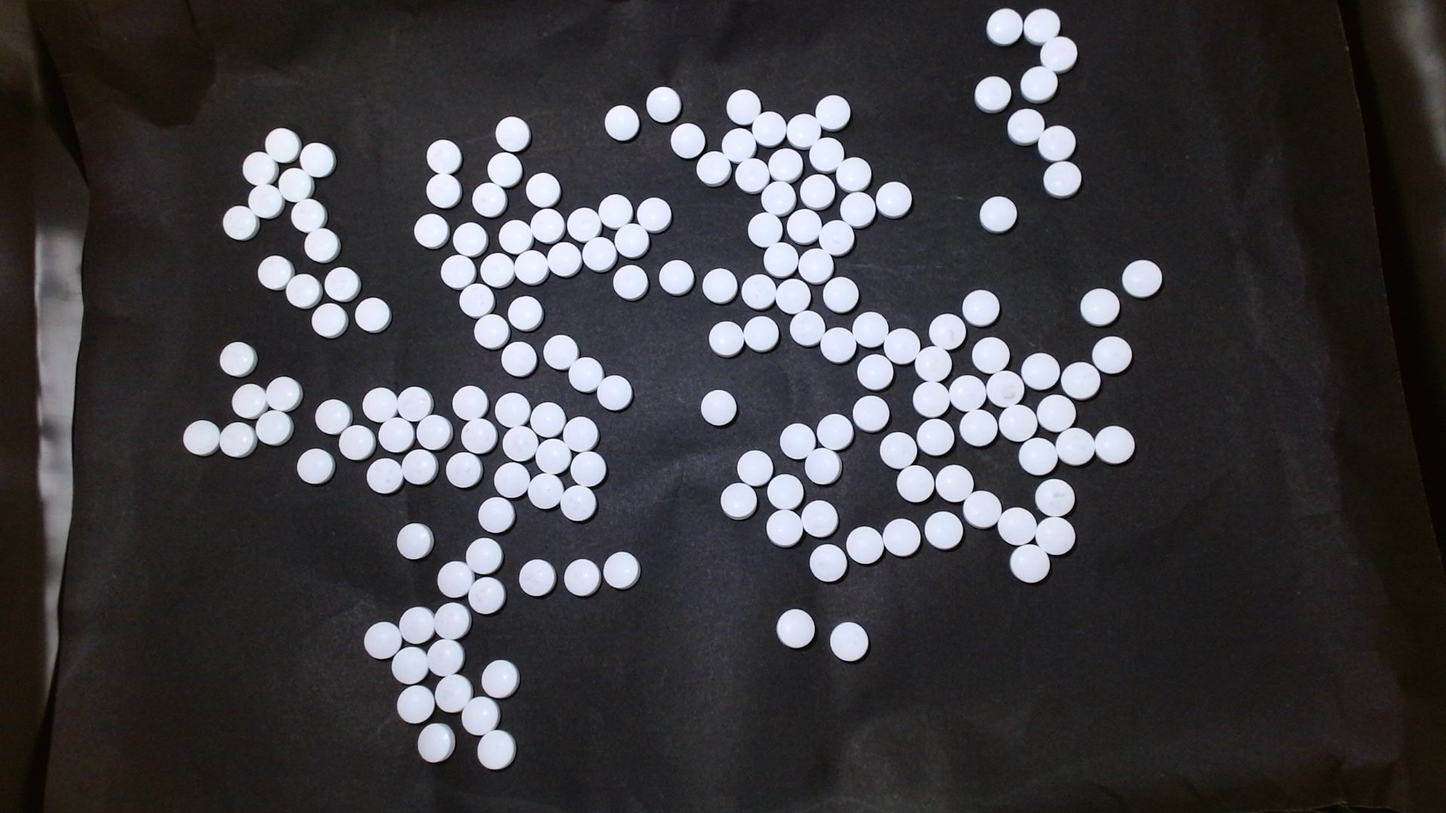Circle: (1034, 515, 1076, 556), (1091, 335, 1133, 375), (1121, 258, 1163, 298), (828, 620, 868, 662), (476, 729, 516, 771), (1093, 425, 1136, 464), (1018, 437, 1059, 477), (776, 607, 815, 649), (416, 722, 455, 764), (1055, 427, 1095, 467), (1035, 479, 1075, 519), (1010, 544, 1050, 584), (1078, 287, 1119, 326), (924, 510, 963, 550), (1060, 361, 1100, 400), (962, 489, 1001, 529), (1037, 393, 1076, 433), (1020, 352, 1060, 391), (295, 447, 335, 486), (396, 684, 435, 724), (434, 673, 472, 714), (460, 696, 499, 735), (391, 645, 429, 685), (915, 418, 953, 458), (996, 507, 1036, 545), (1038, 123, 1077, 161), (1042, 160, 1081, 198), (766, 509, 804, 548), (432, 601, 470, 640), (961, 288, 999, 327), (363, 620, 401, 659), (959, 408, 997, 447), (935, 464, 973, 503), (999, 403, 1037, 442), (480, 658, 518, 697), (810, 543, 847, 583), (720, 482, 758, 520), (856, 353, 894, 391), (395, 522, 433, 560), (427, 638, 465, 676), (313, 397, 352, 434), (477, 495, 514, 534), (880, 431, 917, 470), (971, 336, 1010, 373), (182, 419, 221, 456), (897, 464, 934, 503), (602, 551, 639, 590), (853, 394, 889, 434), (1006, 106, 1043, 144), (413, 212, 450, 250), (1019, 65, 1057, 102), (596, 375, 633, 413), (445, 451, 482, 489), (436, 560, 473, 598), (472, 312, 509, 350), (875, 180, 912, 218), (468, 576, 505, 614), (1040, 35, 1078, 72), (518, 559, 556, 596), (819, 326, 856, 364), (913, 380, 950, 418), (816, 413, 853, 451), (882, 518, 919, 556), (974, 75, 1011, 113), (929, 312, 966, 350), (700, 389, 737, 427), (851, 310, 888, 348), (979, 196, 1017, 233), (949, 374, 985, 413), (255, 410, 294, 446), (801, 499, 837, 538), (847, 526, 883, 565), (230, 382, 267, 419), (401, 449, 438, 486), (779, 422, 816, 459), (569, 450, 606, 487), (914, 345, 951, 382), (986, 370, 1023, 407), (883, 327, 920, 364), (840, 190, 877, 227), (529, 400, 566, 437), (493, 115, 530, 152), (353, 297, 391, 333), (398, 606, 434, 644), (804, 448, 840, 486), (378, 416, 414, 454), (815, 93, 851, 131), (218, 340, 256, 376), (310, 301, 347, 337), (707, 320, 743, 357), (426, 172, 462, 209), (500, 340, 536, 377), (471, 181, 507, 218), (507, 294, 543, 331), (737, 449, 773, 486), (218, 421, 255, 457), (290, 197, 327, 233), (416, 414, 453, 450), (766, 473, 802, 510), (658, 259, 694, 296), (563, 558, 599, 595), (493, 461, 529, 498), (527, 472, 563, 509), (636, 196, 672, 233), (822, 276, 858, 313), (750, 109, 786, 146), (452, 384, 488, 421), (494, 391, 530, 428), (789, 309, 825, 346), (1023, 8, 1060, 44), (986, 8, 1023, 44), (285, 273, 321, 309), (304, 227, 340, 263), (323, 266, 359, 302), (365, 457, 401, 493), (257, 254, 293, 290), (612, 263, 648, 299), (222, 205, 258, 241), (465, 537, 501, 573), (487, 151, 523, 187), (560, 486, 596, 522), (440, 254, 476, 290), (396, 385, 432, 421), (535, 437, 571, 473), (835, 157, 871, 193), (502, 426, 538, 462), (246, 183, 283, 218), (743, 315, 778, 352), (298, 142, 335, 177), (460, 418, 497, 453), (543, 333, 578, 370), (567, 355, 602, 392), (645, 85, 680, 122), (513, 248, 548, 285), (799, 173, 834, 210), (598, 193, 633, 230), (775, 277, 810, 314), (702, 268, 737, 304), (338, 424, 374, 459), (277, 167, 313, 202), (525, 172, 560, 208), (362, 386, 397, 422), (786, 209, 821, 245), (452, 221, 487, 257), (734, 157, 769, 193), (265, 375, 300, 411), (798, 248, 833, 284), (740, 274, 775, 310), (725, 88, 759, 125), (480, 251, 514, 288), (747, 211, 781, 248), (819, 219, 853, 256), (695, 151, 730, 186), (614, 222, 649, 257), (426, 138, 461, 173), (529, 208, 564, 243), (264, 126, 299, 161), (670, 121, 704, 157), (242, 151, 278, 185), (498, 218, 532, 254), (459, 282, 493, 318), (563, 416, 597, 451), (604, 104, 638, 139), (582, 236, 616, 271), (547, 241, 581, 276), (761, 180, 795, 215), (721, 127, 755, 162), (810, 137, 844, 172), (786, 112, 819, 148), (566, 206, 599, 242), (764, 242, 798, 276), (768, 147, 801, 181)
